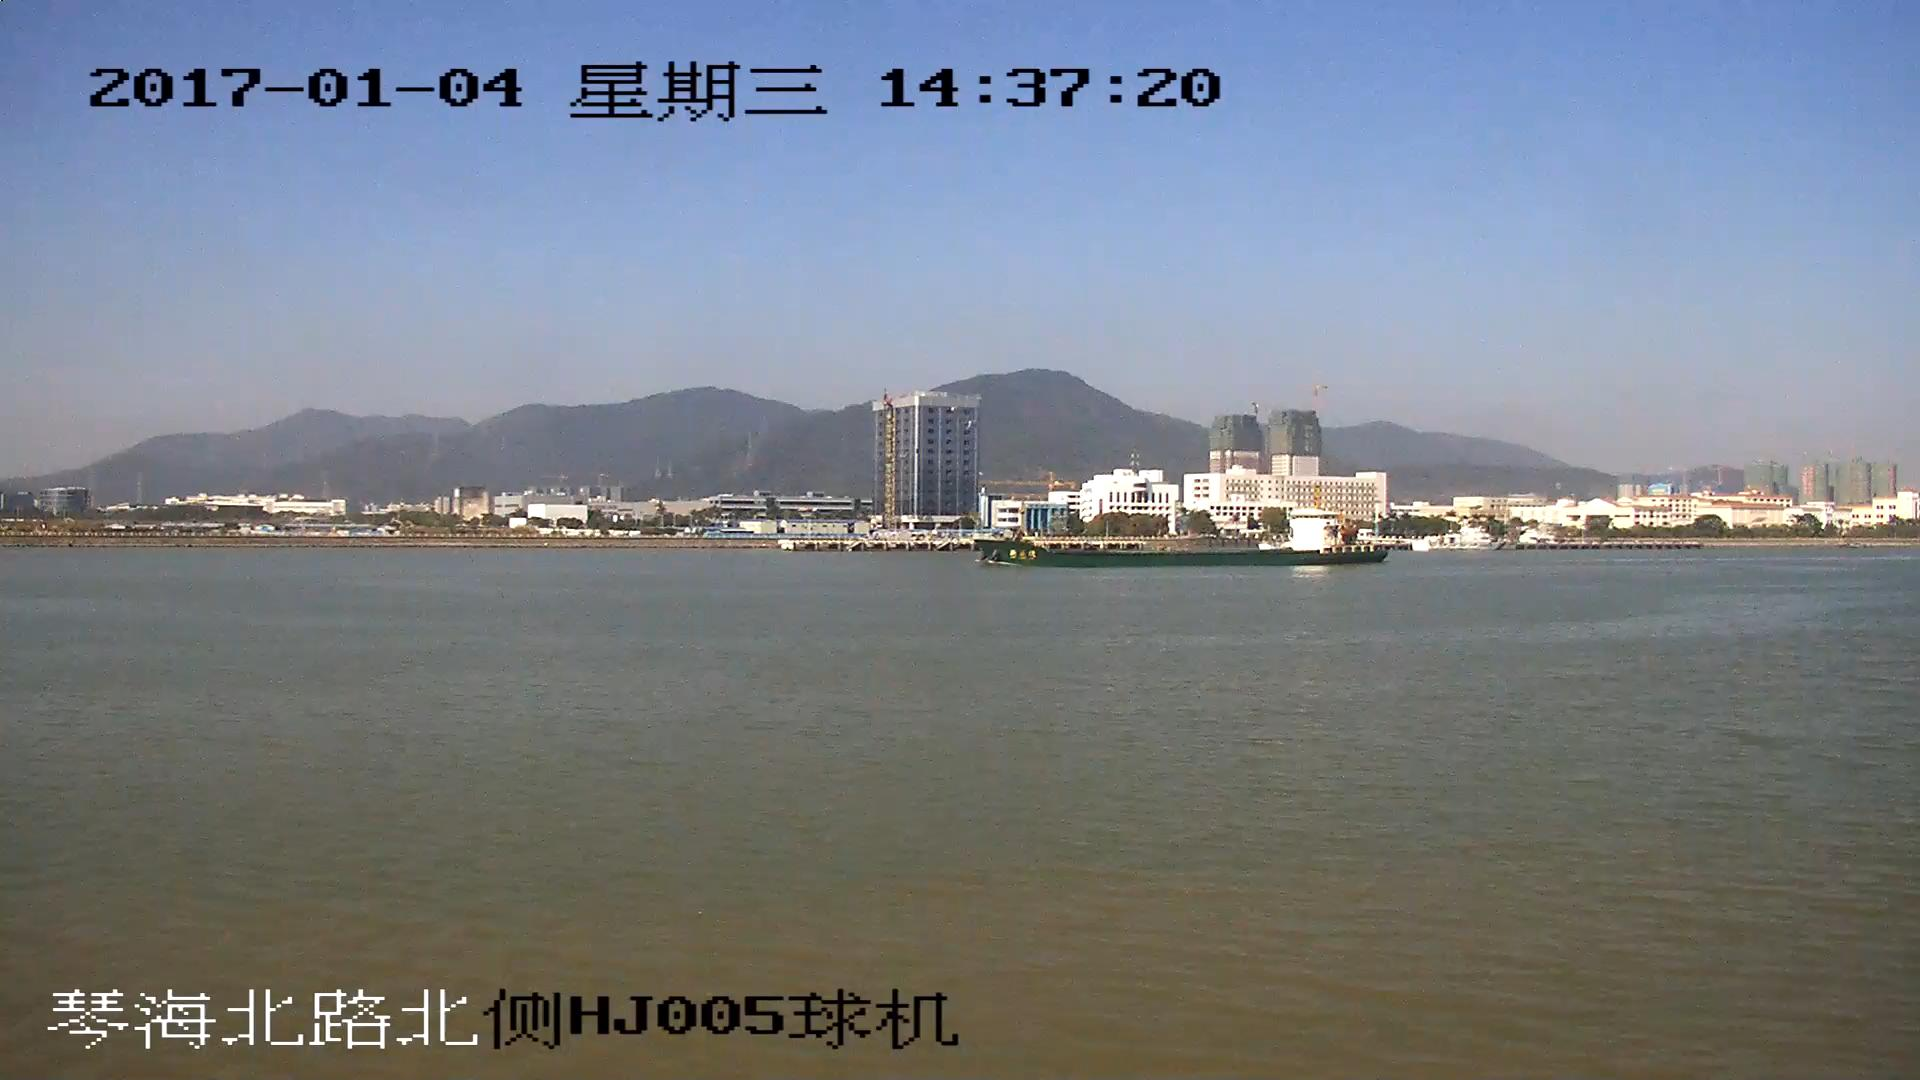general cargo ship: (979, 503, 1388, 567)
